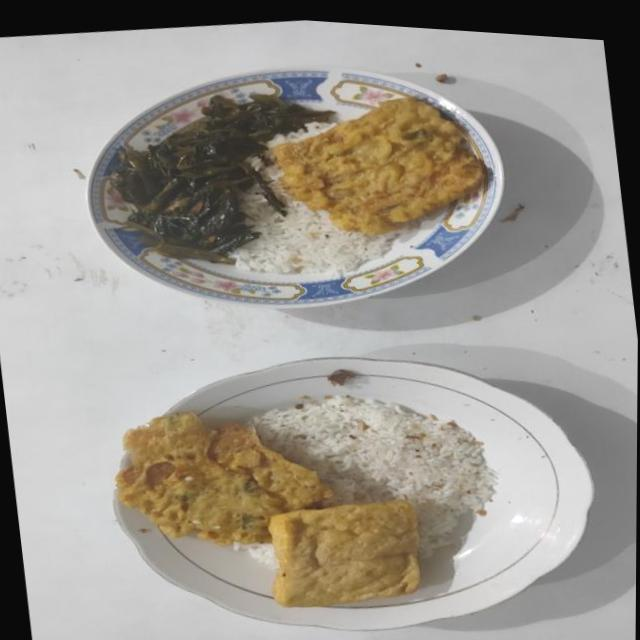nasi_putih: (248, 394, 497, 556), (231, 163, 396, 278)
tahu_goreng: (268, 499, 419, 606)
tumis_kangkung: (110, 92, 333, 264)
